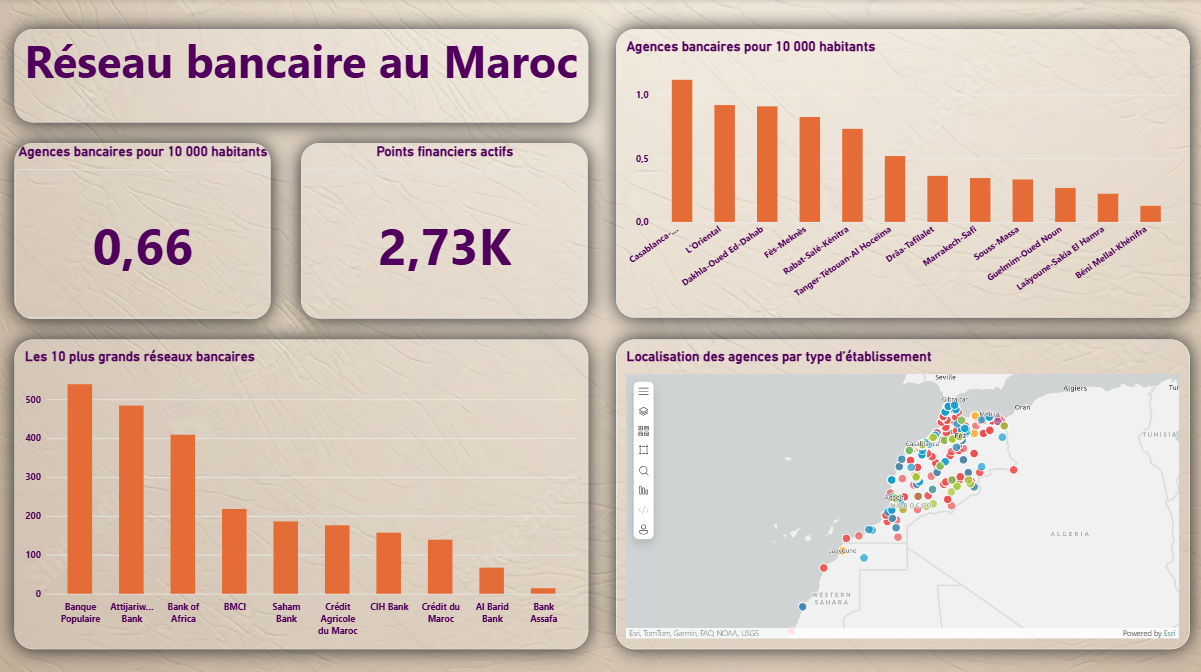

The page's visual inventory and layout, read from the dashboard file:
{"tool":"powerbi","page":{"name":"Page 1","canvas":[1920,1080],"ordinal":0},"visuals":[{"type":"cardVisual","title":"Points financiers actifs","fields":{"Data":["fact_agency.Agences actives"]},"box":[482,228.1,456.2,279],"z":0},{"type":"cardVisual","title":"Agences bancaires pour 10 000 habitants","fields":{"Data":["mart_region_kpis.Agences pour 10k hab"]},"box":[27.4,228.1,407.5,279.8],"z":1000},{"type":"clusteredColumnChart","title":"Agences bancaires pour 10 000 habitants","fields":{"Category":["dim_region.region_name"],"Y":["mart_region_kpis.Agences pour 10k hab"]},"box":[982.3,48.7,912.4,459.2],"z":2000},{"type":"columnChart","title":"Les 10 plus grands réseaux bancaires","fields":{"Category":["dim_bank.bank_name"],"Y":["fact_agency.Agences actives"]},"box":[27.4,541.3,912.4,492.7],"z":3000},{"type":"esriVisual","title":"Localisation des agences par type d’établissement","fields":{"Color":["dim_bank.institution_type"],"Latitude":["fact_agency.lat"],"Longitude":["fact_agency.lon"]},"box":[982.3,541.3,912.4,492.7],"z":4000},{"type":"textbox","box":[27,49,408,179],"z":5000},{"type":"textbox","box":[26.4,48,912.8,148.9],"z":6000}]}

Visuals, with their boxes in screenshot pixels (x1, y1, x2, y2), scaled from the page's 1920x1080 canvas onto the 1201x672 screenshot:
"Points financiers actifs" cardVisual: x1=302, y1=142, x2=587, y2=316
"Agences bancaires pour 10 000 habitants" cardVisual: x1=17, y1=142, x2=272, y2=316
"Agences bancaires pour 10 000 habitants" clusteredColumnChart: x1=614, y1=30, x2=1185, y2=316
"Les 10 plus grands réseaux bancaires" columnChart: x1=17, y1=337, x2=588, y2=643
"Localisation des agences par type d’établissement" esriVisual: x1=614, y1=337, x2=1185, y2=643
textbox: x1=17, y1=30, x2=272, y2=142
textbox: x1=17, y1=30, x2=587, y2=123
